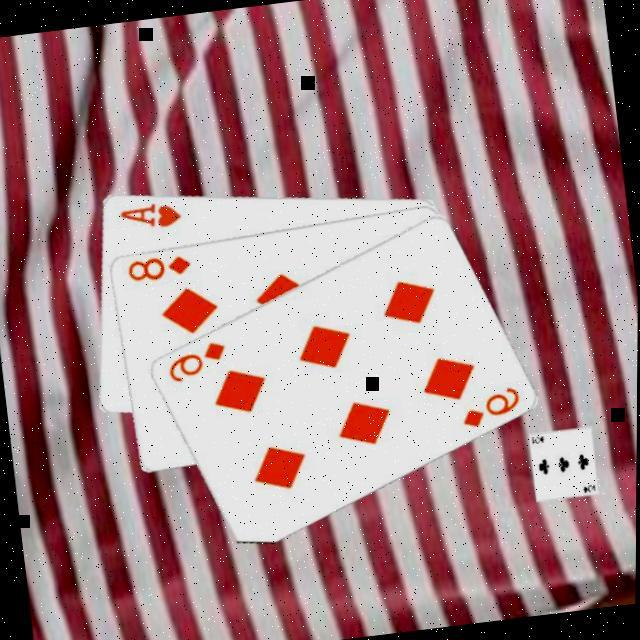6D: (162, 338, 233, 388), (456, 383, 526, 433)
8D: (124, 252, 196, 288)
AH: (116, 197, 185, 236)
